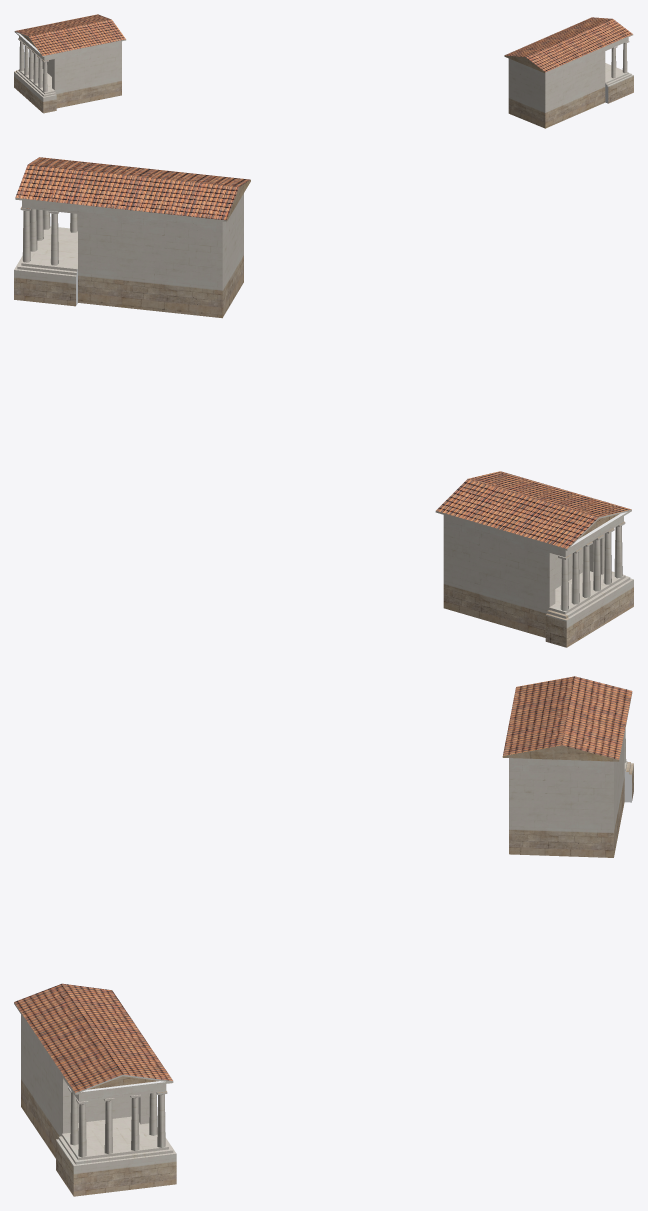
Rendered from naoi.fbx.
The picture shows the model from 3 angles, top to bottom: view 1: azimuth 30°, elevation 25°; view 2: azimuth 150°, elevation 25°; view 3: azimuth 270°, elevation 25°; orthographic projection. The views are drawn at different scales.
Visible parts, largest first — view 1: Group8, Group1; view 2: Group8, Group1; view 3: Group8, Group1.
Boxes of the visible parts, x1,y1,x2,y2 form: Group8: (504, 17, 633, 128); Group1: (14, 14, 126, 113); Group8: (14, 157, 250, 318); Group1: (435, 471, 633, 647); Group8: (14, 983, 176, 1196); Group1: (502, 676, 633, 857).
Bounding box in the file's own units: 86714 × 11771 × 56117.
